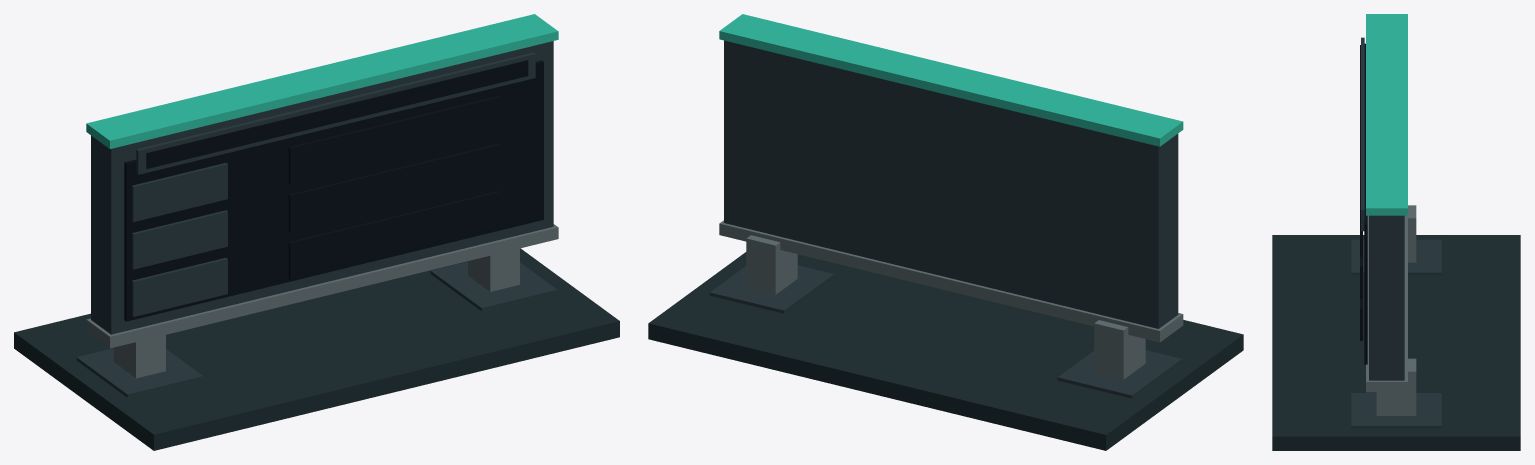
Rendered from beacon_rivalry_d0_lod1.glb.
3 views of the same model, side by side, from view 1: azimuth 30°, elevation 25°; view 2: azimuth 150°, elevation 25°; view 3: azimuth 270°, elevation 25° (orthographic). The views are drawn at different scales.
Parts seen in each view (by area): view 1: RIVALRY_STRUCTURE; view 2: RIVALRY_STRUCTURE; view 3: RIVALRY_STRUCTURE.
Part boxes in pixels (box(x1,y1,x2,y2)): RIVALRY_STRUCTURE: box(14, 14, 619, 450); RIVALRY_STRUCTURE: box(648, 14, 1243, 450); RIVALRY_STRUCTURE: box(1272, 14, 1520, 450).
Size of the model in its own units: 7.5 by 4.14 by 3.9.
